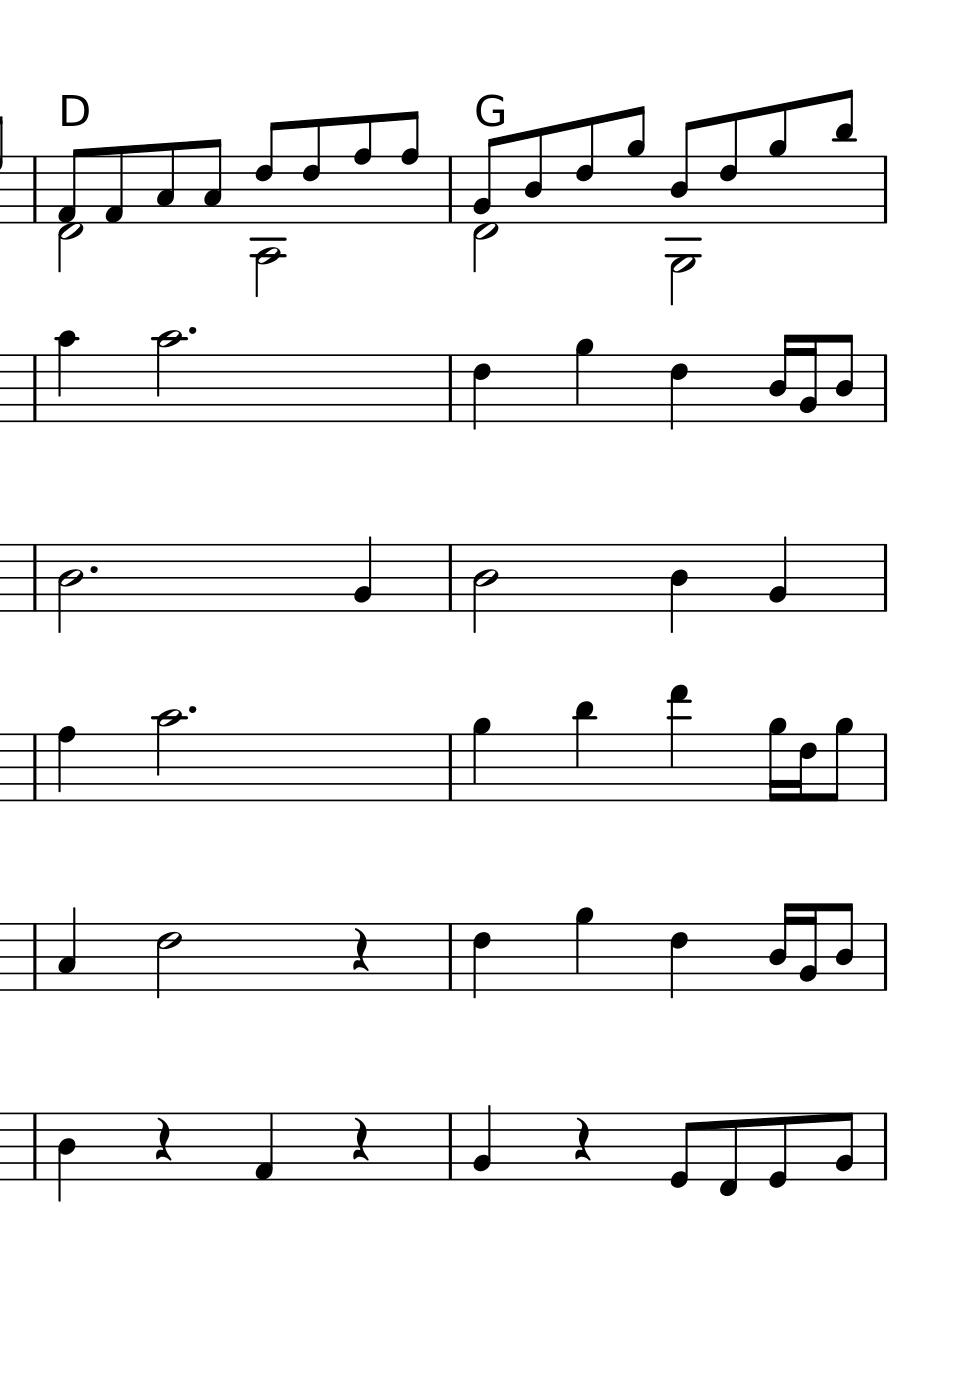16_2: (798, 332, 819, 423), (797, 901, 818, 992)
16_4: (767, 331, 794, 423), (767, 901, 794, 992)
16_6: (792, 732, 817, 804)
16_9: (766, 716, 787, 803)
2_10: (151, 328, 185, 426), (153, 707, 183, 802)
2_4: (470, 543, 498, 633), (54, 542, 82, 634)
2_6: (154, 922, 182, 1002)
4_1: (251, 1112, 275, 1183)
4_10: (53, 329, 80, 426)
4_13: (666, 684, 692, 803)
4_2: (472, 1103, 494, 1183), (352, 534, 374, 613), (768, 533, 789, 612)
4_3: (56, 906, 78, 992)
4_4: (667, 542, 690, 634), (54, 1110, 76, 1203)
4_6: (667, 922, 689, 1002), (470, 352, 492, 432), (667, 352, 689, 432), (471, 922, 492, 1001)
4_8: (54, 725, 78, 804)
4_9: (572, 336, 594, 423), (470, 716, 492, 803), (573, 905, 594, 992)
8_-1: (717, 1110, 739, 1197)
8_0: (667, 1111, 696, 1189), (765, 1110, 789, 1190)
8_1: (102, 144, 125, 226)
8_11: (832, 89, 855, 224), (572, 699, 596, 804)
8_2: (833, 1111, 855, 1183)
8_3: (154, 141, 176, 225), (202, 138, 222, 226)
8_4: (669, 119, 698, 226), (522, 126, 545, 225), (834, 333, 854, 423), (834, 901, 854, 992)
8_6: (573, 116, 596, 226), (717, 111, 738, 227), (300, 117, 322, 226)
8_8: (351, 115, 373, 224), (399, 110, 420, 224)
8_9: (823, 716, 853, 804), (625, 105, 646, 224), (768, 101, 787, 224)
Rests4: (152, 1115, 174, 1163), (349, 1115, 371, 1163), (349, 926, 371, 973), (571, 1115, 593, 1162)
Single_barline: (441, 544, 460, 612), (875, 544, 894, 611), (441, 355, 460, 421), (441, 734, 460, 800), (442, 923, 460, 992), (875, 354, 893, 422), (25, 354, 43, 421), (876, 923, 893, 992), (27, 923, 43, 990), (442, 156, 459, 223), (876, 156, 893, 223), (27, 733, 43, 800), (876, 734, 893, 801), (27, 1113, 43, 1180), (27, 544, 42, 611), (442, 1113, 458, 1180), (877, 1113, 893, 1180), (27, 157, 42, 223)
dot: (185, 324, 197, 338), (87, 563, 100, 576), (185, 704, 197, 716)
